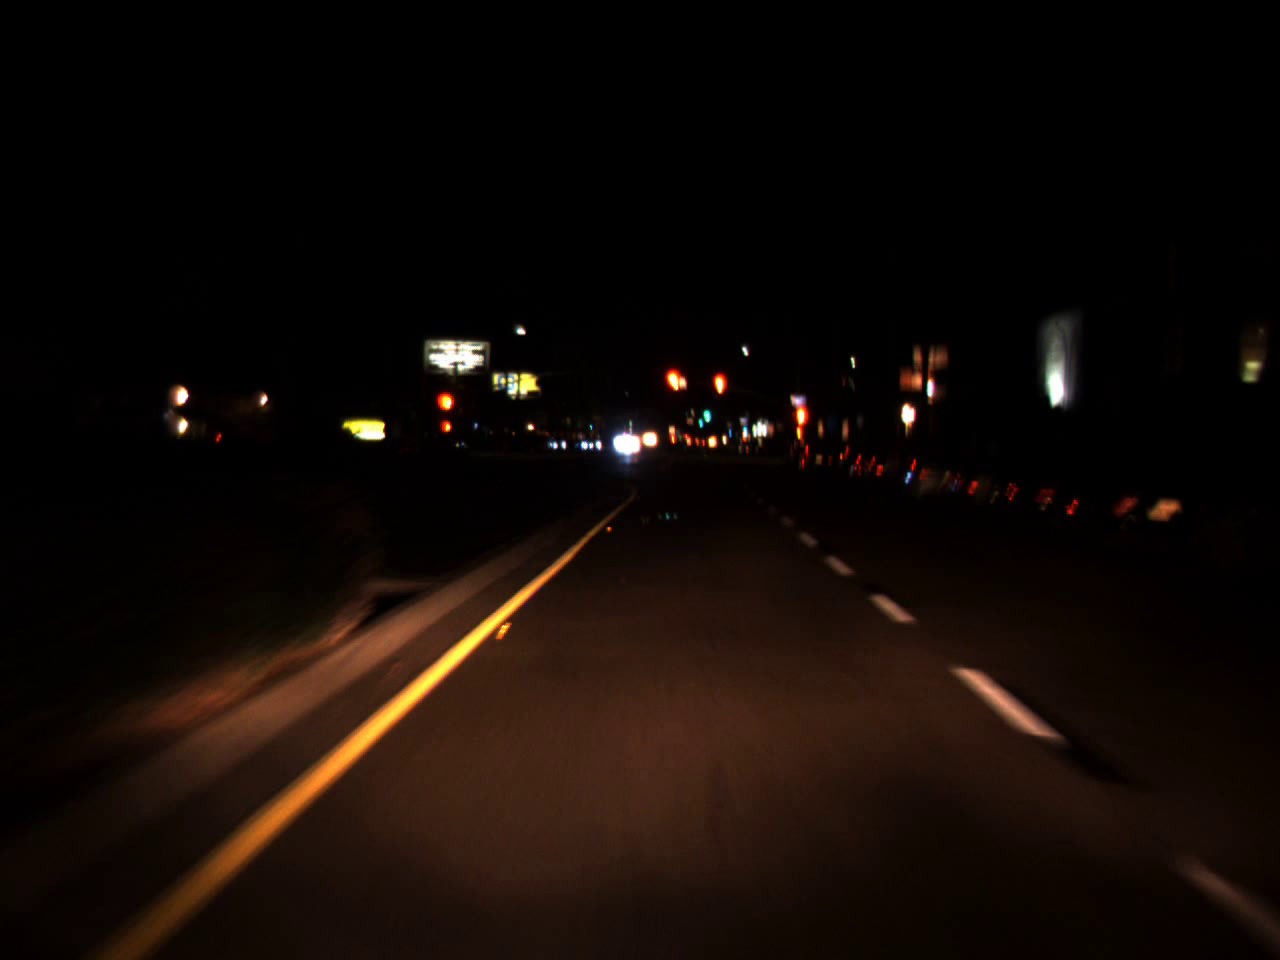go: (701, 397, 711, 424), (725, 421, 734, 436), (741, 422, 748, 434)
stop: (661, 365, 686, 419), (434, 390, 458, 433), (793, 399, 808, 455), (712, 370, 727, 415)
